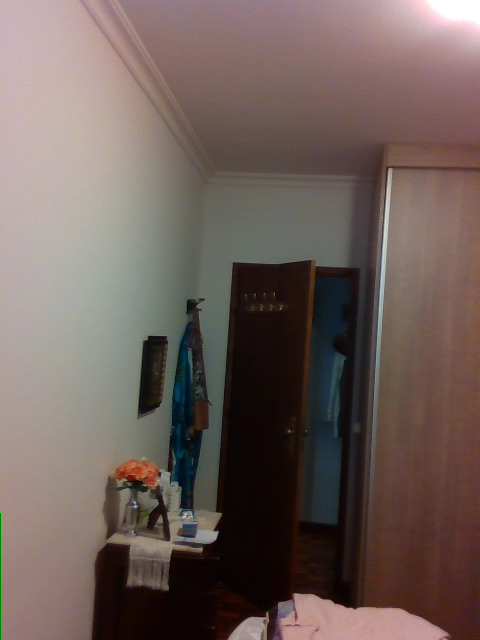semi: (213, 260, 358, 614)
